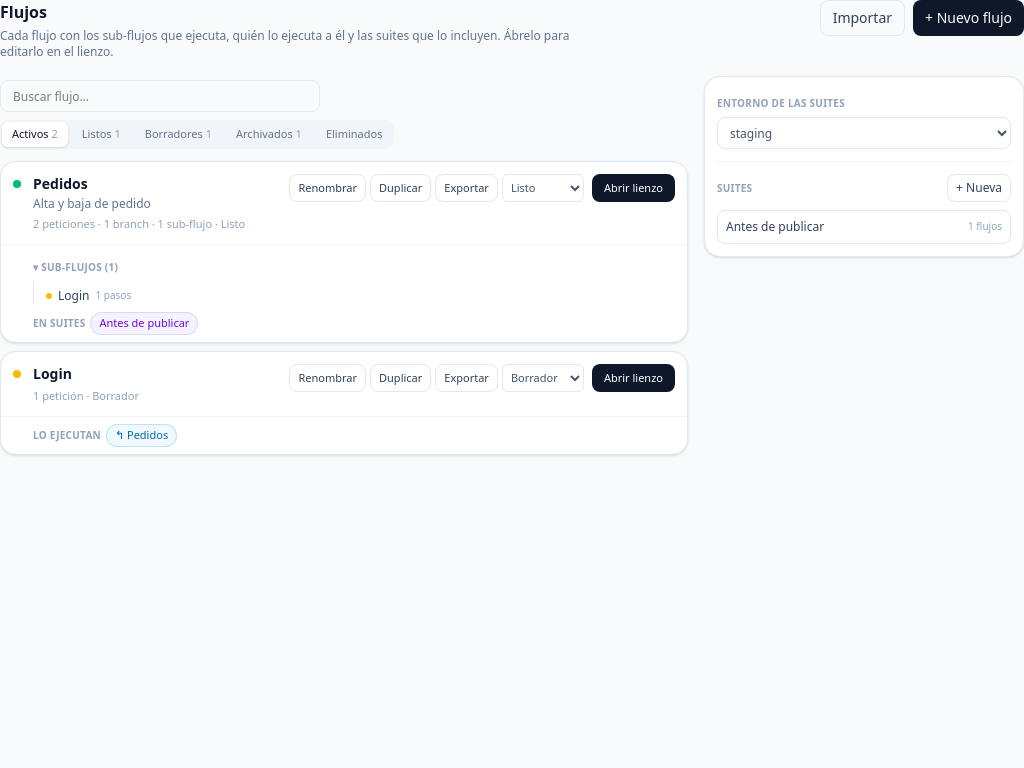
la lista de flujos: acciones por fila › un fallo al crear se dice encima de la lista
Expected: the text "Pedidos" is shown, x1=33 y1=174 x2=88 y2=192
Click the button "+ Nuevo flujo" at {"x": 968, "y": 18}, box x1=913 y1=0 x2=1023 y2=36
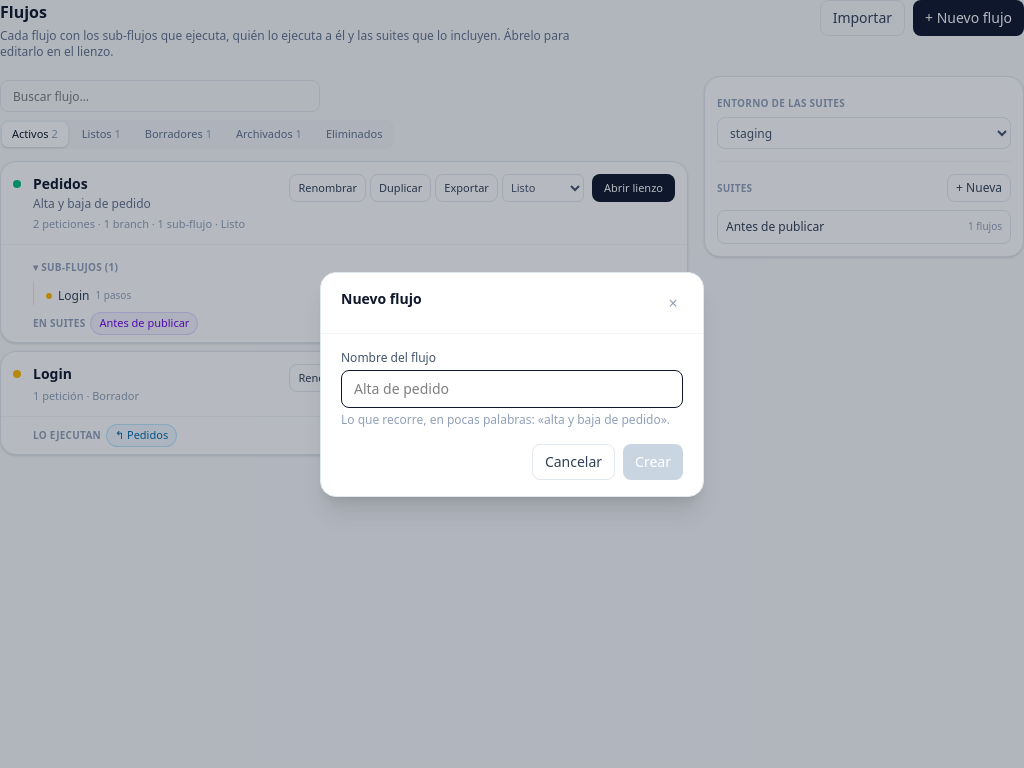
Type "X" into the field at {"x": 512, "y": 388}, box x1=341 y1=370 x2=683 y2=408
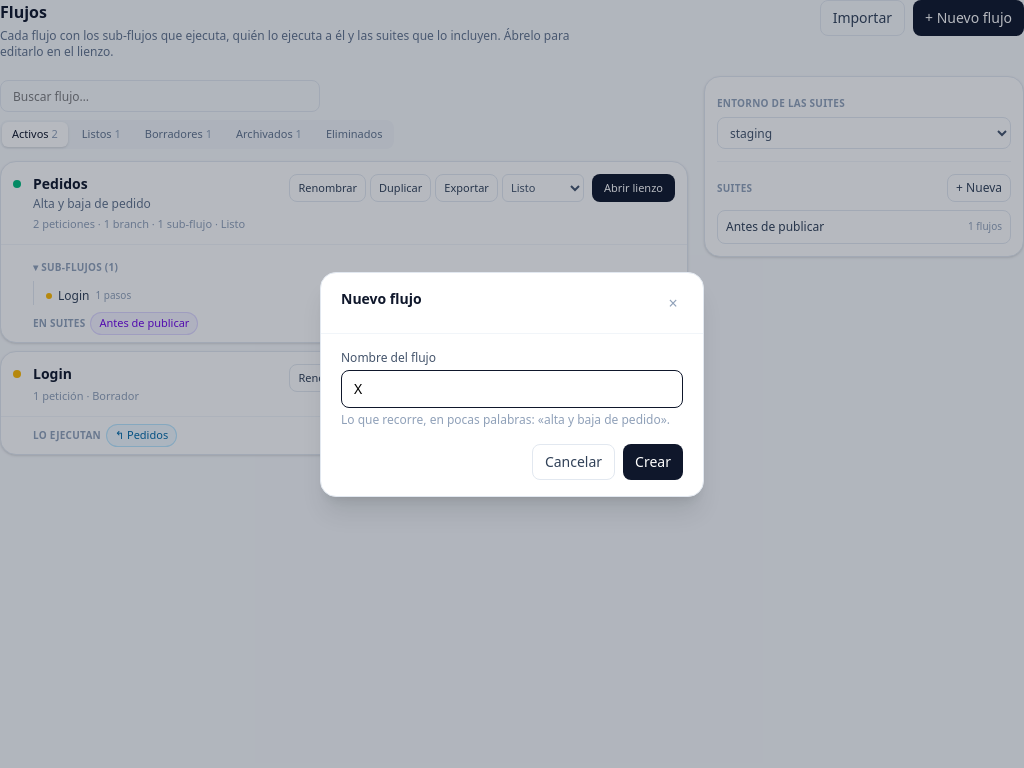
Click the button "Crear" at {"x": 653, "y": 462}, box x1=623 y1=444 x2=683 y2=480
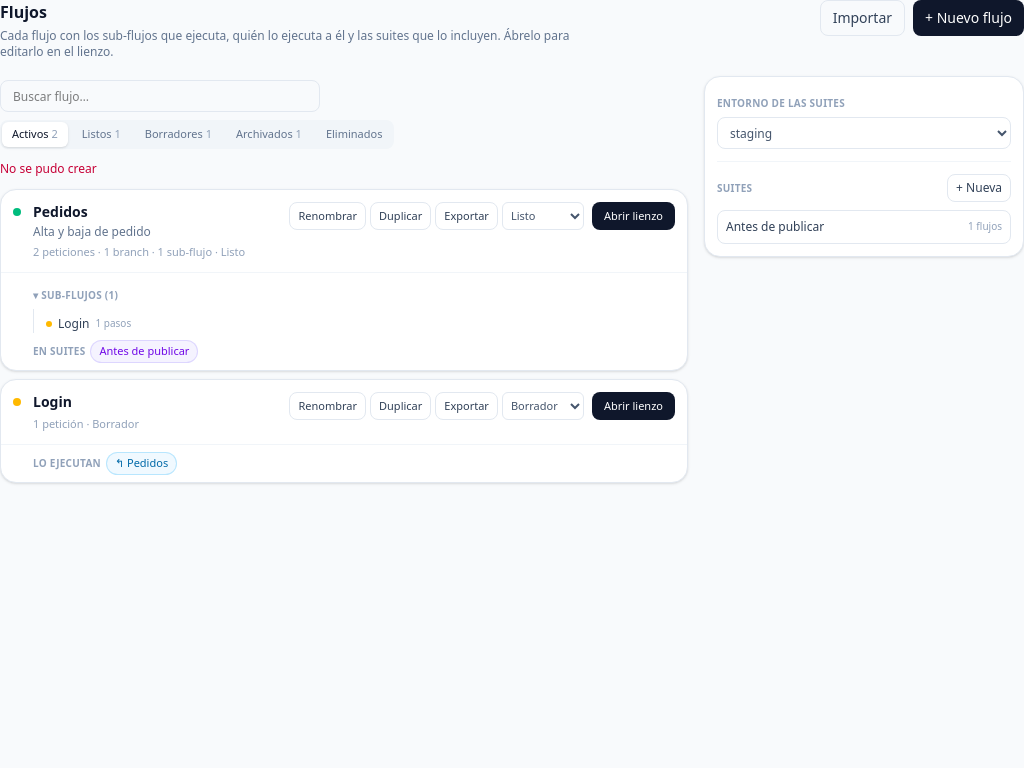
Now the text "No se pudo crear" is shown, box x1=0 y1=160 x2=97 y2=176
